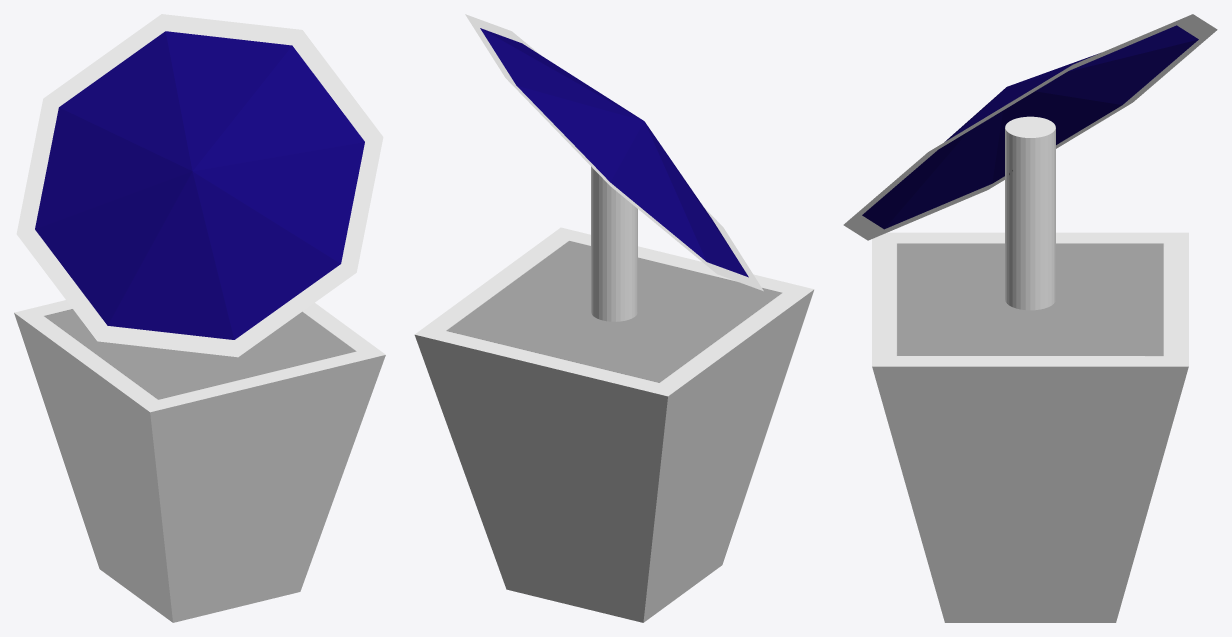
The model's file is solar_module_joined.gltf.
3 renders of one model, left to right at view 1: azimuth 30°, elevation 25°; view 2: azimuth 150°, elevation 25°; view 3: azimuth 270°, elevation 25°, orthographic. The views are drawn at different scales.
Parts seen in each view (by area): view 1: Cube; view 2: Cube; view 3: Cube.
Boxes of the visible parts, x1=… form: Cube: x1=14, y1=14, x2=385, y2=622; Cube: x1=414, y1=14, x2=814, y2=622; Cube: x1=843, y1=14, x2=1217, y2=622.
Bounding box in the file's own units: 2.37 × 4.11 × 2.36.
1 material, 1 textured.
